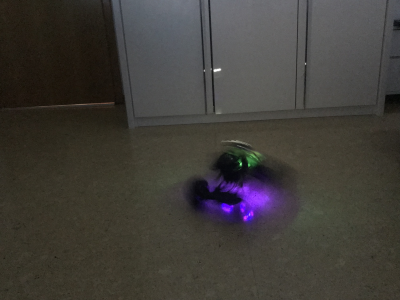remote control car: (182, 133, 295, 224)
